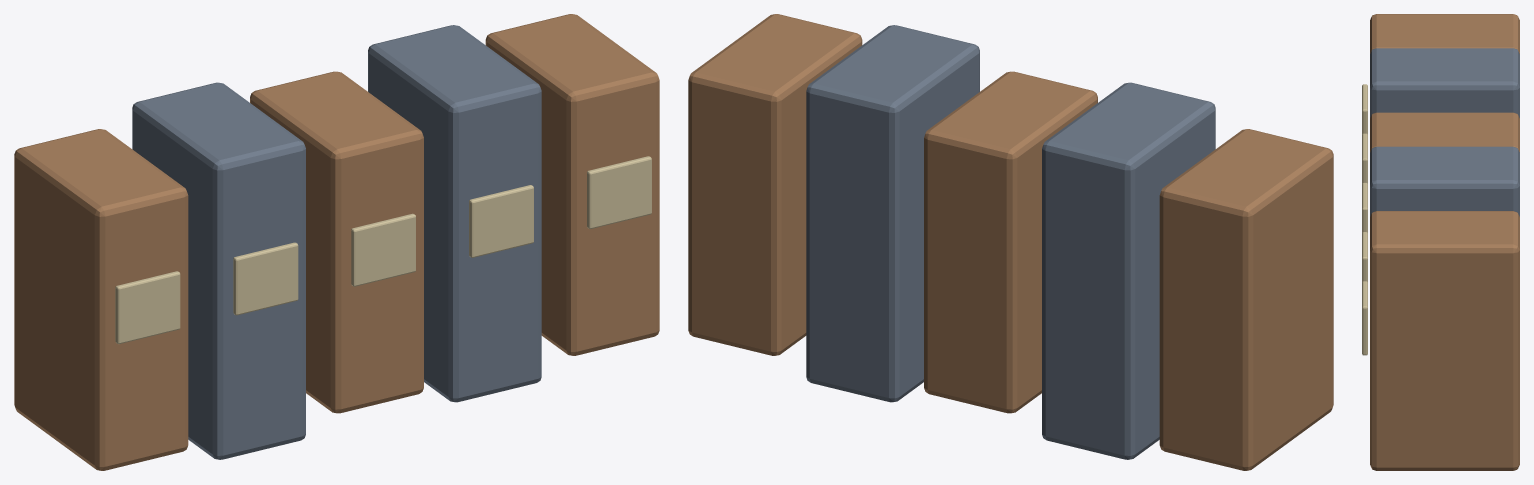
The model's file is SM_HH_Art_ShelfStock.fbx.
The picture shows the model from 3 angles, left to right: view 1: azimuth 30°, elevation 25°; view 2: azimuth 150°, elevation 25°; view 3: azimuth 270°, elevation 25°; orthographic projection. The views are drawn at different scales.
Parts seen in each view (by area): view 1: HH_Art_ShelfStock; view 2: HH_Art_ShelfStock; view 3: HH_Art_ShelfStock.
Part boxes in pixels (left/top/right/bottom): HH_Art_ShelfStock: left=14, top=14, right=659, bottom=470; HH_Art_ShelfStock: left=688, top=14, right=1333, bottom=470; HH_Art_ShelfStock: left=1362, top=14, right=1519, bottom=470.
Size of the model in its own units: 0.1895 by 0.67 by 0.34.
